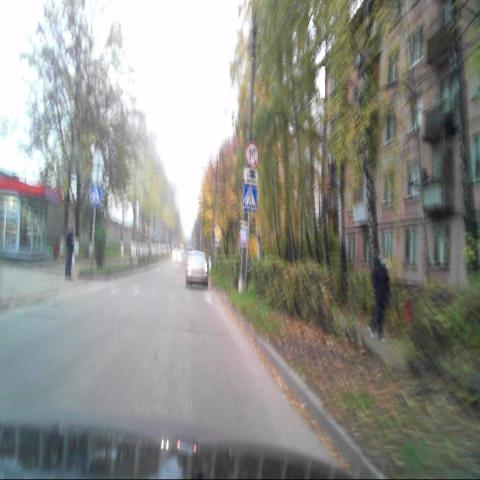3_18: (245, 142, 258, 168)
8_4_1: (243, 169, 259, 185)
